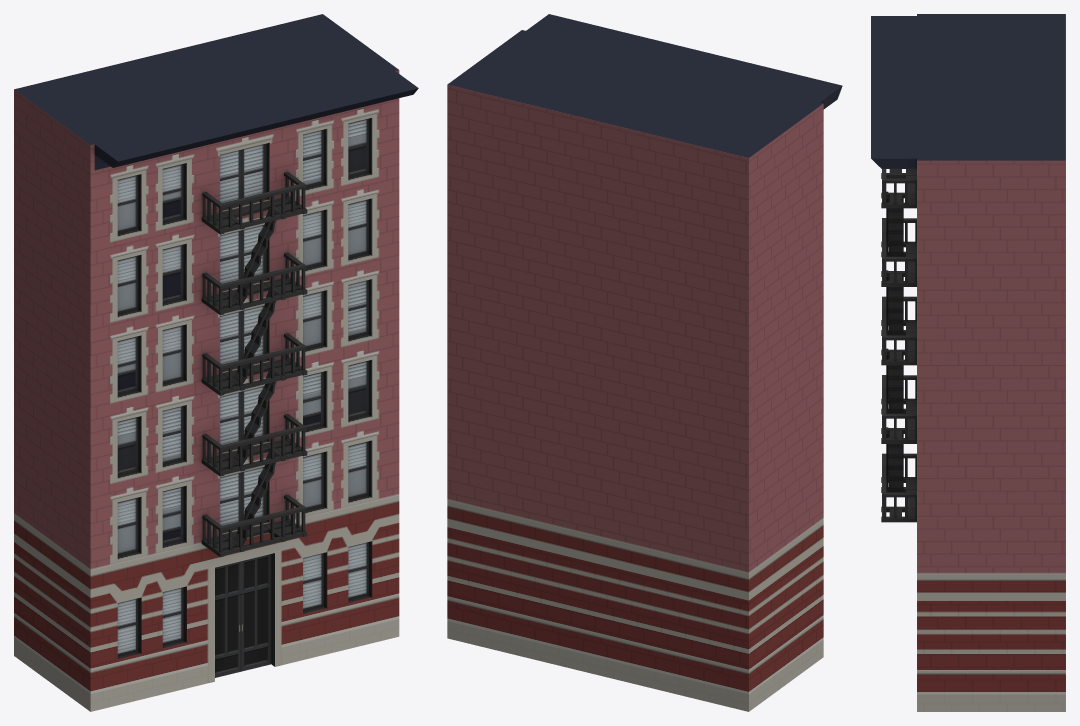
The model's file is Rook.glb.
The picture shows the model from 3 angles, left to right: view 1: azimuth 30°, elevation 25°; view 2: azimuth 150°, elevation 25°; view 3: azimuth 270°, elevation 25°; orthographic projection. The views are drawn at different scales.
Visible parts, largest first — view 1: Apartment_mesh; view 2: Apartment_mesh; view 3: Apartment_mesh.
Boxes of the visible parts, x1,y1,x2,y2 form: Apartment_mesh: (14,14,418,711); Apartment_mesh: (447,14,842,711); Apartment_mesh: (871,14,1065,711).
Size of the model in its own units: 10.32 by 18.1 by 5.79.
1 material, 1 textured.
